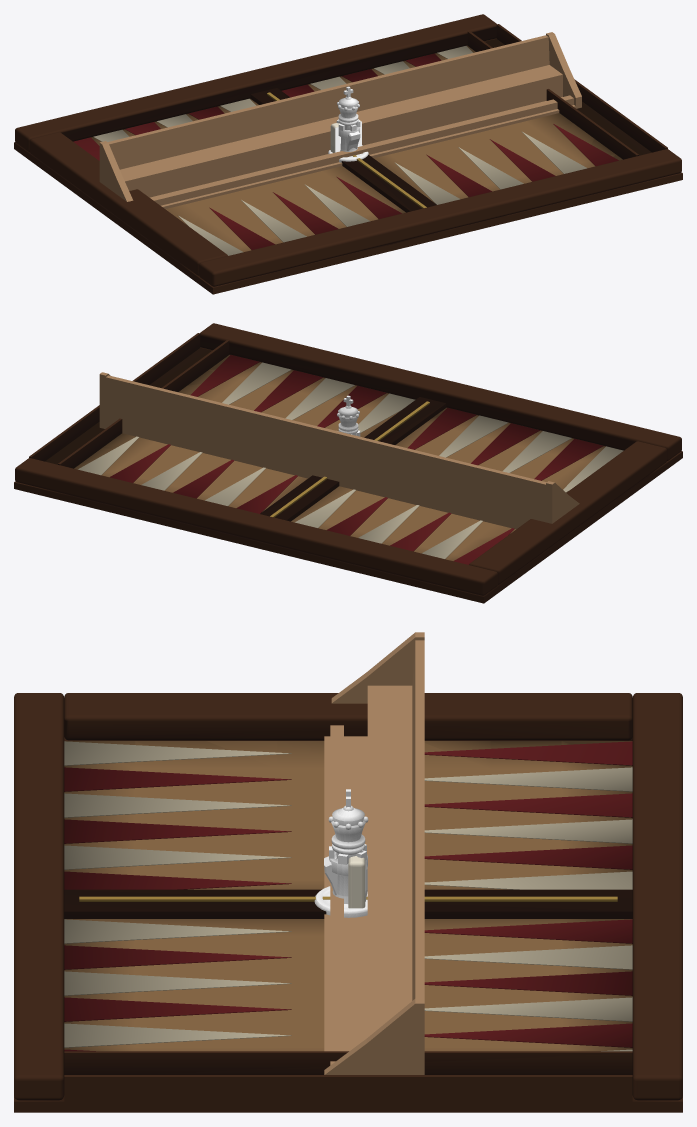
The model's file is masa-parcalari.3a4817a5bd8f.glb.
The picture shows the model from 3 angles, top to bottom: view 1: azimuth 30°, elevation 25°; view 2: azimuth 150°, elevation 25°; view 3: azimuth 270°, elevation 25°; orthographic projection. The views are drawn at different scales.
Parts seen in each view (by area): view 1: tavla_board, okey_rack; view 2: tavla_board, okey_rack; view 3: tavla_board, okey_rack, piece_k, okey_body, piece_q, piece_r.
Boxes of the visible parts, x1,y1,x2,y2 form: tavla_board: (14, 14, 682, 294); okey_rack: (99, 32, 581, 208); tavla_board: (14, 323, 682, 603); okey_rack: (99, 372, 579, 529); tavla_board: (14, 693, 682, 1112); okey_rack: (324, 632, 424, 1074); piece_k: (331, 789, 365, 903); okey_body: (348, 856, 365, 908); piece_q: (328, 805, 368, 854); piece_r: (329, 844, 367, 896).
Bounding box in the file's own units: 0.6 × 0.1036 × 0.44.
6 materials, 3 textured.
